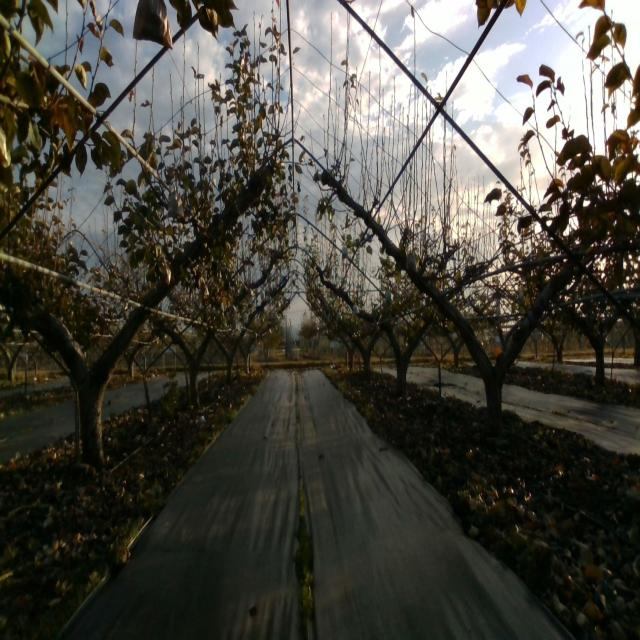pearbags: (132, 0, 173, 51), (167, 186, 184, 221), (406, 248, 418, 274)
